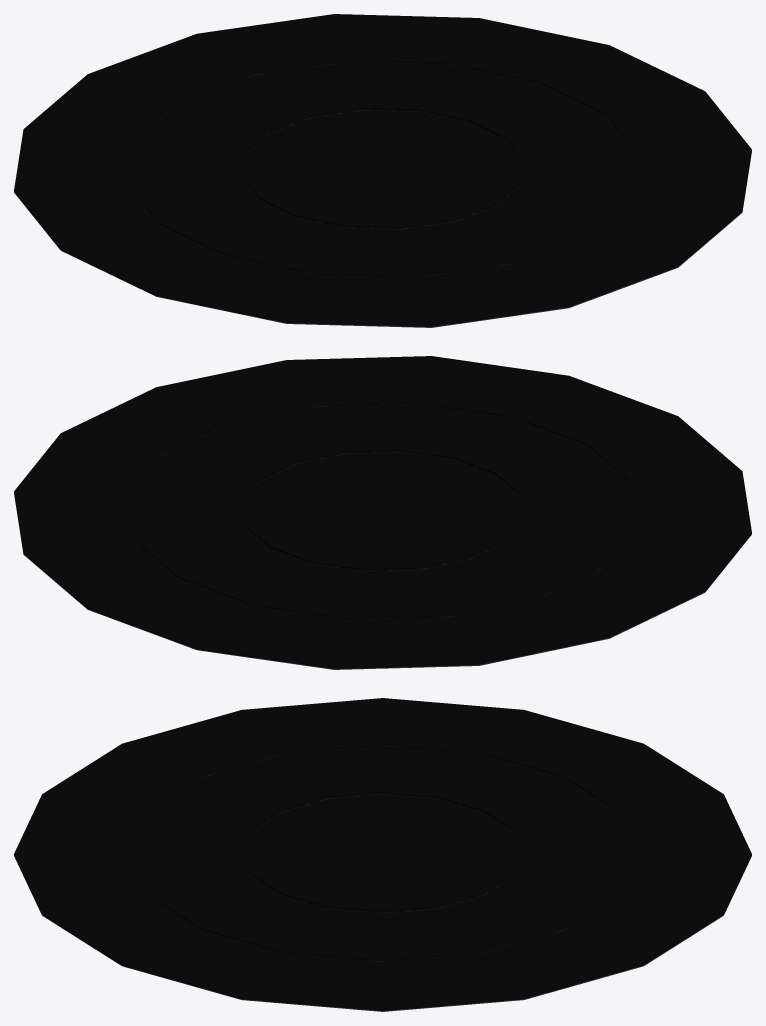
The model's file is nox_portal_top.obj.
3 views of the same model, one above another, from view 1: azimuth 30°, elevation 25°; view 2: azimuth 150°, elevation 25°; view 3: azimuth 270°, elevation 25° (orthographic).
Visible parts, largest first — view 1: nox_portal_top; view 2: nox_portal_top; view 3: nox_portal_top.
Part boxes in pixels (box(x1,y1,x2,y2)): nox_portal_top: box(14, 14, 751, 327); nox_portal_top: box(14, 356, 751, 669); nox_portal_top: box(14, 698, 751, 1011).
Size of the model in its own units: 12.04 by 0.076 by 12.04.
Materials: 1 (1 with a texture image).
